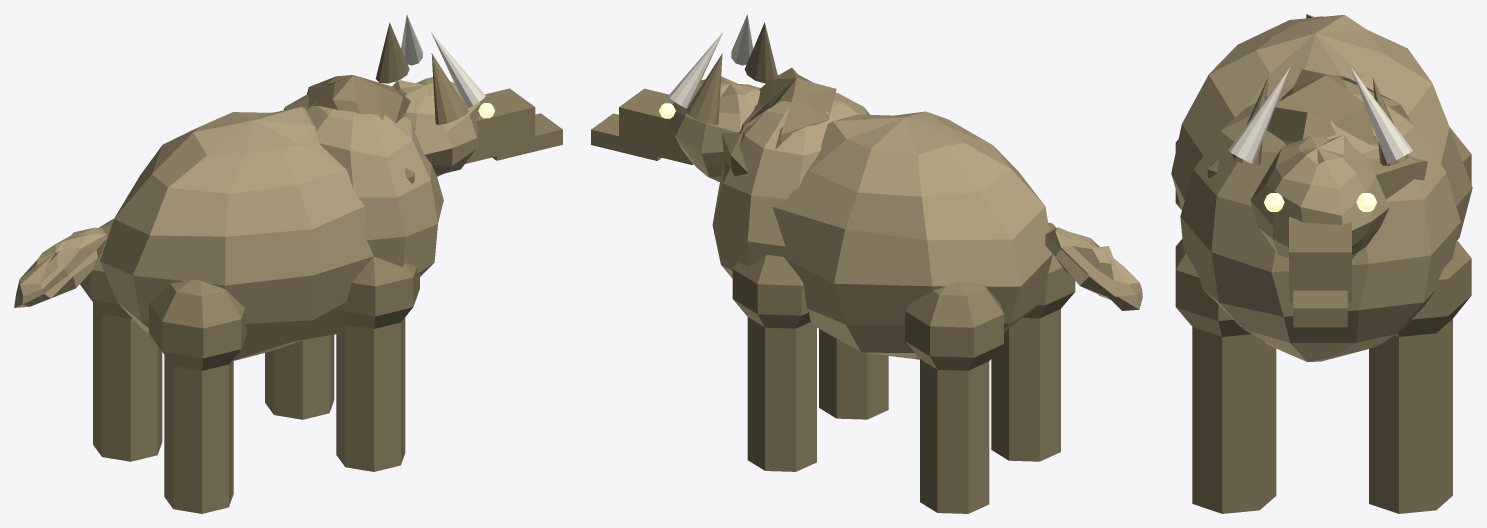
File: shambler.glb
3 views of the same model, side by side, from view 1: azimuth 30°, elevation 25°; view 2: azimuth 150°, elevation 25°; view 3: azimuth 270°, elevation 25° (orthographic). The views are drawn at different scales.
Visible parts, largest first — view 1: body, chest, legBR, legFR, legBL, hip.003, legFL, skull, hip.001, tail0, snoutm, mane (+6 smaller); view 2: body, chest, legBL, legFL, legBR, hip.002, legFR, hip, skull, tail0, mane, snoutm (+6 smaller); view 3: chest, body, legFR, legFL, skull, mane, snoutm, hip, hip.001, jaw, horn, horn.001 (+3 smaller).
Boxes of the visible parts, left/top/right/bottom form: body: left=100, top=106, right=373, bottom=360; chest: left=284, top=94, right=443, bottom=276; legBR: left=164, top=355, right=233, bottom=513; legFR: left=336, top=317, right=405, bottom=471; legBL: left=93, top=302, right=162, bottom=461; hip.003: left=149, top=280, right=247, bottom=370; legFL: left=265, top=335, right=334, bottom=419; skull: left=392, top=77, right=480, bottom=176; hip.001: left=342, top=256, right=419, bottom=328; tail0: left=14, top=227, right=106, bottom=307; snoutm: left=465, top=88, right=535, bottom=163; mane: left=307, top=75, right=436, bottom=184; body: left=773, top=111, right=1052, bottom=359; chest: left=712, top=92, right=869, bottom=278; legBL: left=920, top=359, right=989, bottom=513; legFL: left=747, top=317, right=816, bottom=471; legBR: left=991, top=309, right=1060, bottom=461; hip.002: left=905, top=281, right=1003, bottom=370; legFR: left=819, top=329, right=888, bottom=419; hip: left=732, top=254, right=810, bottom=328; skull: left=669, top=76, right=760, bottom=181; tail0: left=1045, top=227, right=1142, bottom=310; mane: left=720, top=67, right=836, bottom=179; snoutm: left=619, top=88, right=693, bottom=165; chest: left=1180, top=84, right=1460, bottom=362; body: left=1171, top=15, right=1472, bottom=239; legFR: left=1192, top=327, right=1276, bottom=513; legFL: left=1369, top=319, right=1452, bottom=513; skull: left=1250, top=134, right=1389, bottom=258; mane: left=1207, top=69, right=1427, bottom=258; snoutm: left=1289, top=216, right=1351, bottom=301; hip: left=1394, top=240, right=1471, bottom=336; hip.001: left=1175, top=239, right=1251, bottom=336; jaw: left=1293, top=290, right=1347, bottom=327; horn: left=1228, top=66, right=1290, bottom=164; horn.001: left=1350, top=66, right=1412, bottom=164.
Bounding box in the file's own units: 2.69 × 1.86 × 1.06.
